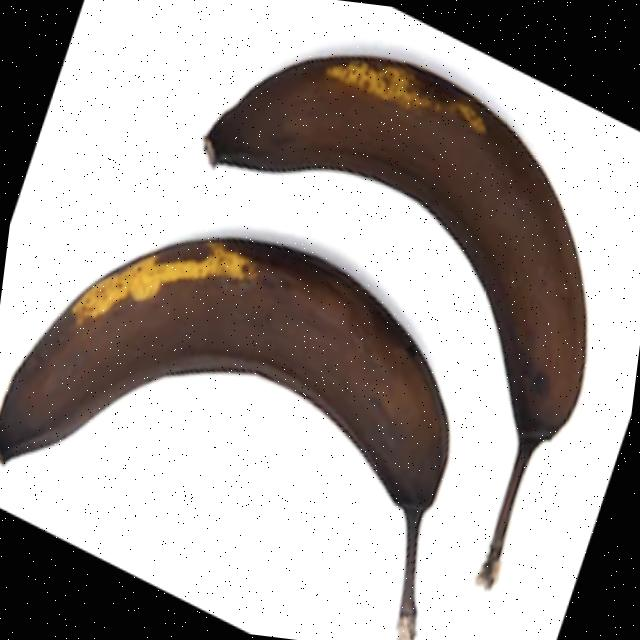Rotten: (0, 209, 471, 640)
